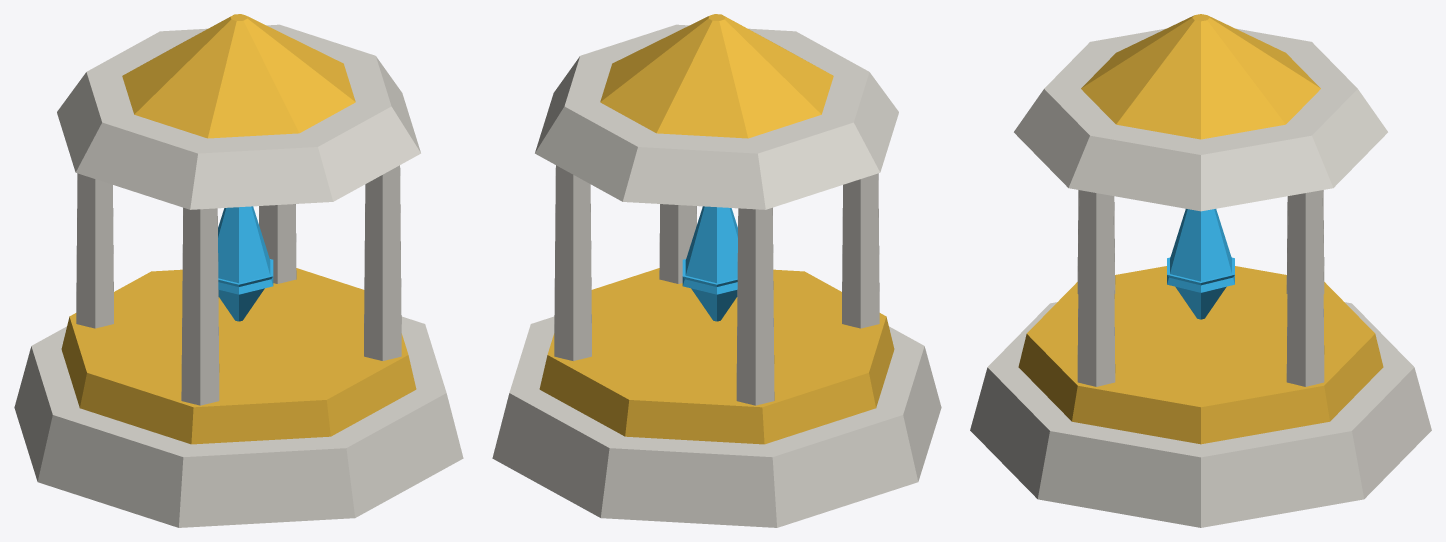
File: shrine.glb
The picture shows the model from 3 angles, left to right: view 1: azimuth 30°, elevation 25°; view 2: azimuth 150°, elevation 25°; view 3: azimuth 270°, elevation 25°; orthographic projection.
Visible parts, largest first — view 1: shrine; view 2: shrine; view 3: shrine.
Part boxes in pixels (left/top/right/bottom): shrine: left=14, top=14, right=463, bottom=527; shrine: left=492, top=14, right=941, bottom=527; shrine: left=970, top=14, right=1431, bottom=527.
Size of the model in its own units: 2.12 by 2.09 by 2.12.
